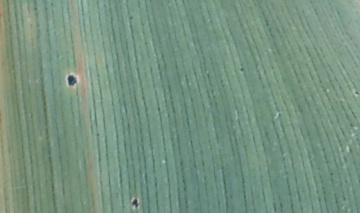tarspot: (65, 73, 78, 87), (131, 197, 140, 210), (127, 14, 135, 22), (353, 89, 360, 97), (238, 66, 245, 73), (156, 105, 161, 114), (95, 131, 101, 138), (32, 6, 38, 12), (328, 171, 335, 176), (49, 1, 54, 8)
